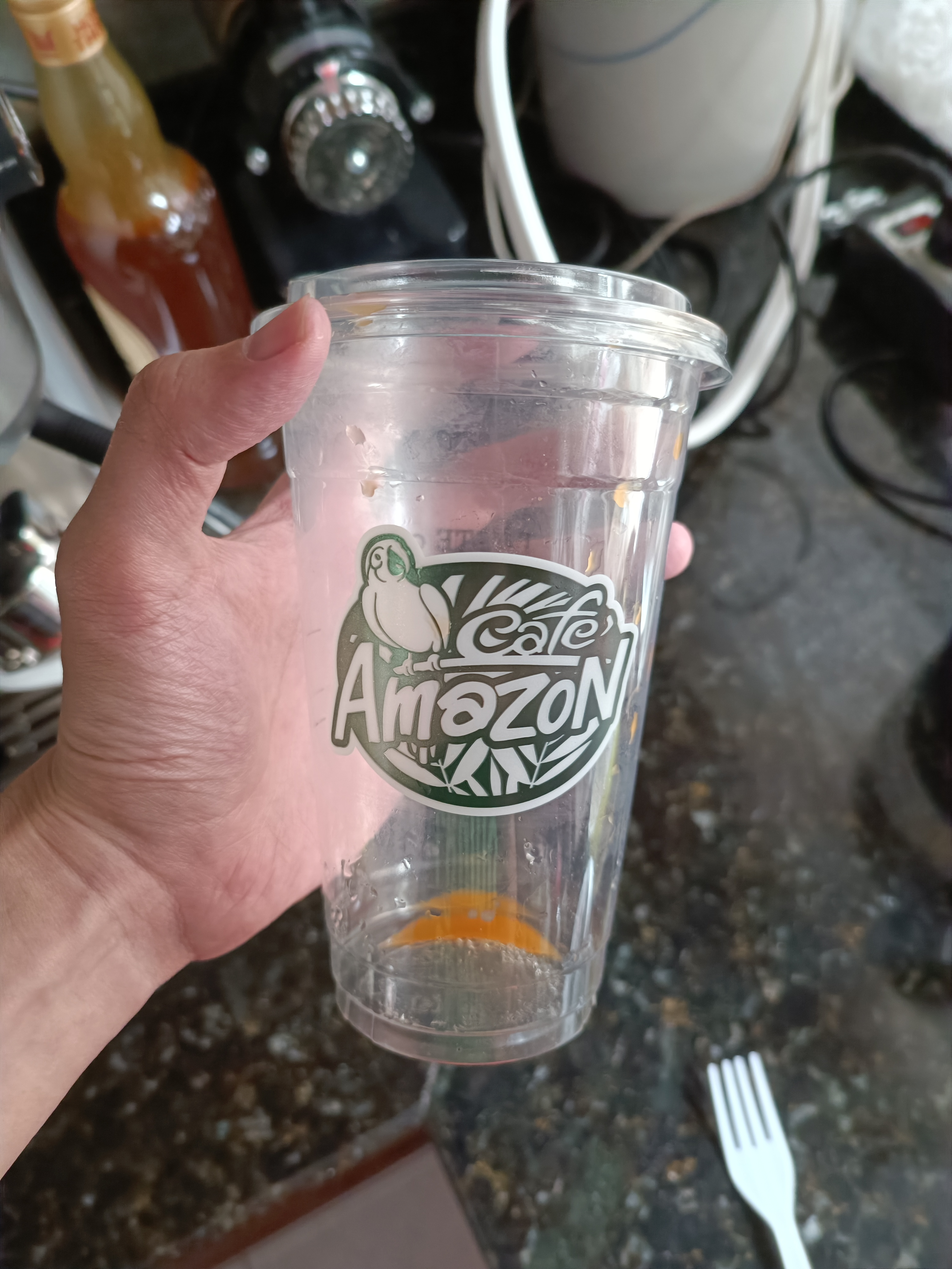plastic: (251, 228, 761, 1070)
